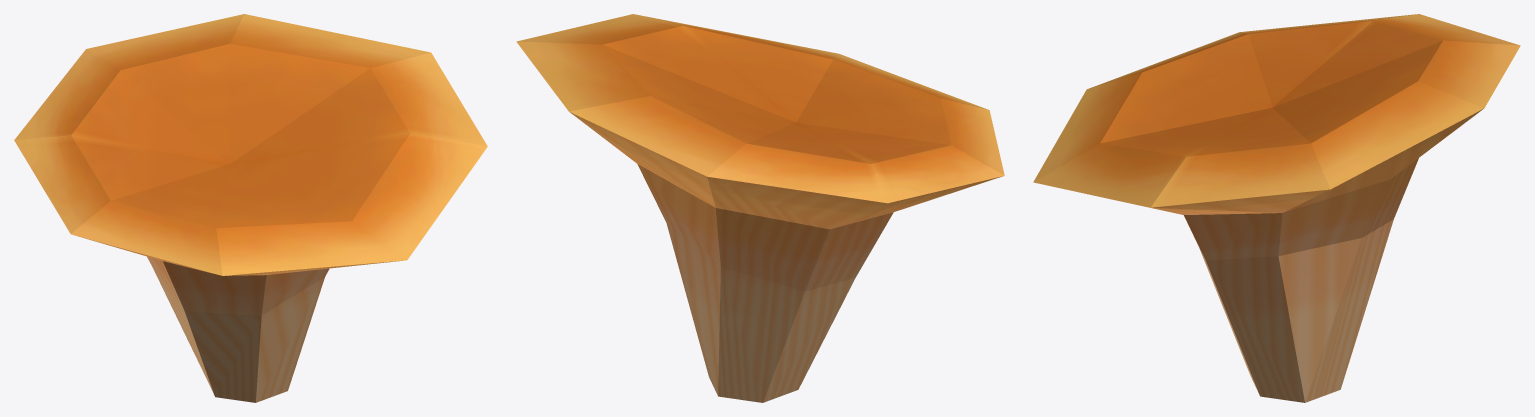
Rendered from chanterelle-38.glb.
3 renders of one model, left to right at view 1: azimuth 30°, elevation 25°; view 2: azimuth 150°, elevation 25°; view 3: azimuth 270°, elevation 25°, orthographic. The views are drawn at different scales.
Visible parts, largest first — view 1: chanterelle_38; view 2: chanterelle_38; view 3: chanterelle_38.
Boxes of the visible parts, <box> form: chanterelle_38: <box>14,14,487,402</box>; chanterelle_38: <box>516,14,1004,402</box>; chanterelle_38: <box>1033,14,1520,402</box>.
Size of the model in its own units: 2.77 by 1.92 by 2.63.
1 material, 1 textured.
